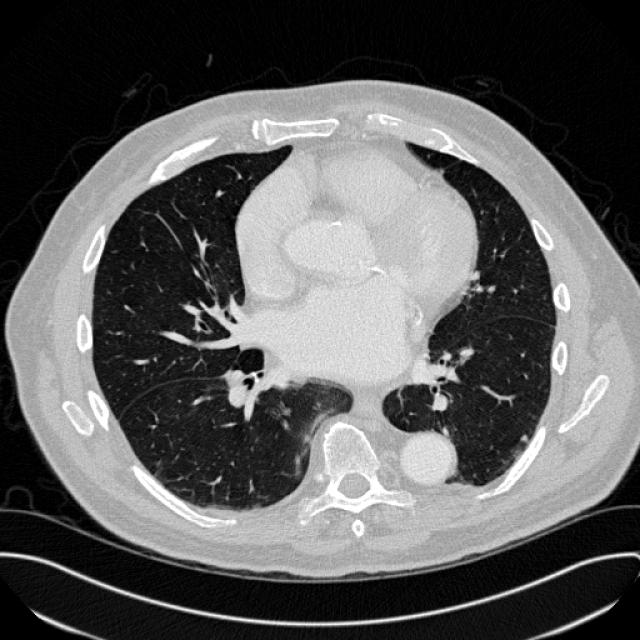nodule: (514, 429, 531, 446)
